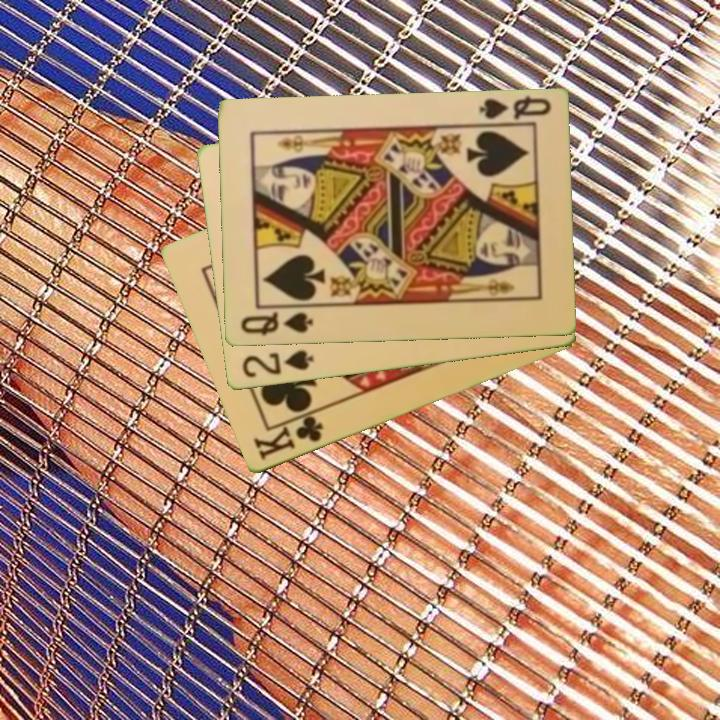2s: (238, 347, 317, 381)
Kc: (249, 407, 326, 464)
Qs: (237, 309, 316, 339), (475, 93, 554, 123)
